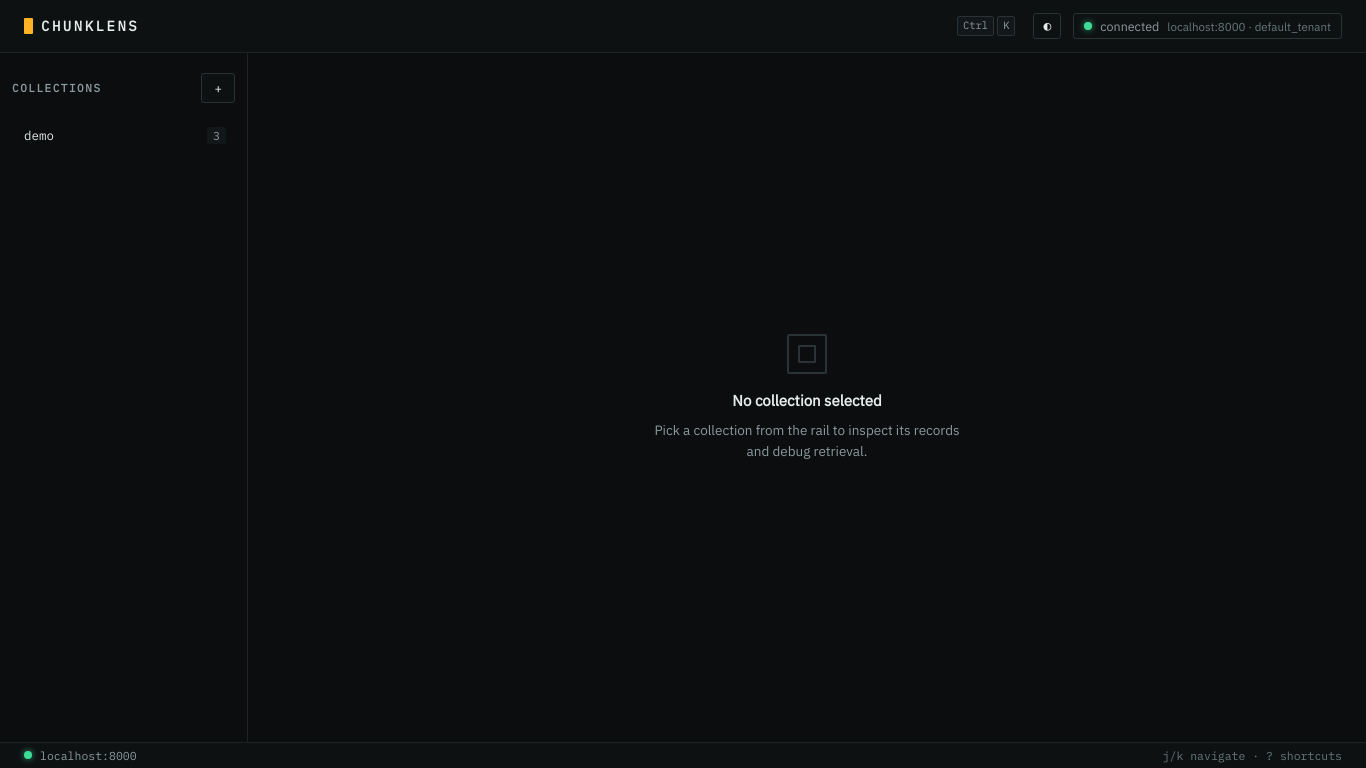
selecting a collection navigates to its records tab
The image size is (1366, 768).
Click the button "demo 3": (124,135) [12,120,235,150]
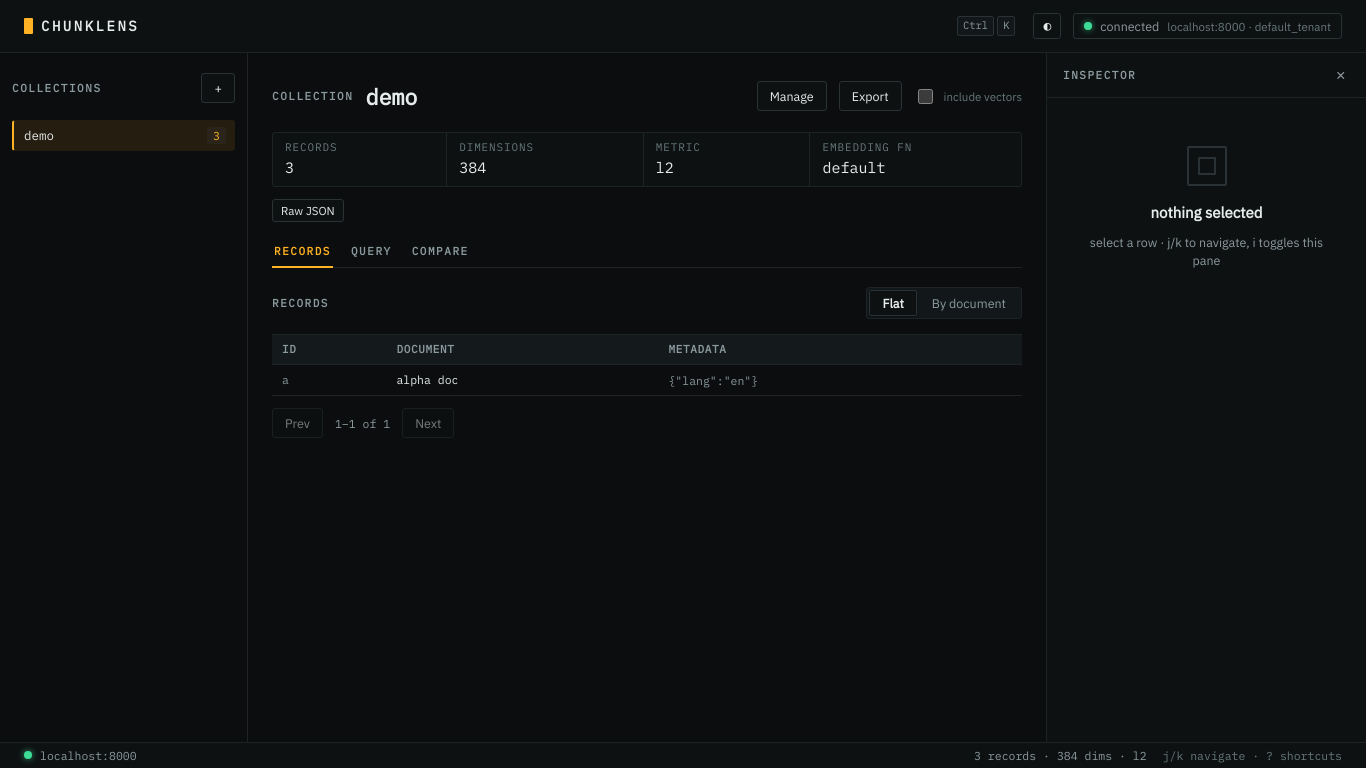
Now the table is shown, box [272,334,1022,396]
